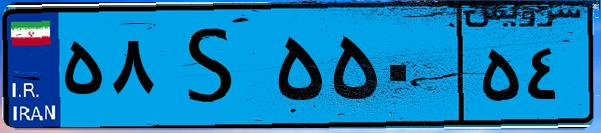0: (385, 28, 445, 110)
4: (525, 38, 570, 115)
5: (270, 28, 330, 110), (330, 28, 385, 110), (57, 26, 110, 100), (475, 38, 525, 113)
8: (110, 28, 158, 98)
S: (158, 12, 270, 120)
